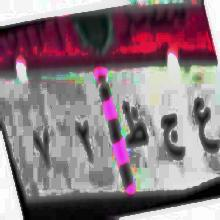2: (75, 116, 96, 173)
7: (31, 122, 56, 179)
Thaa: (122, 90, 147, 161)
ain: (194, 90, 219, 162)
jeem: (161, 107, 188, 170)
